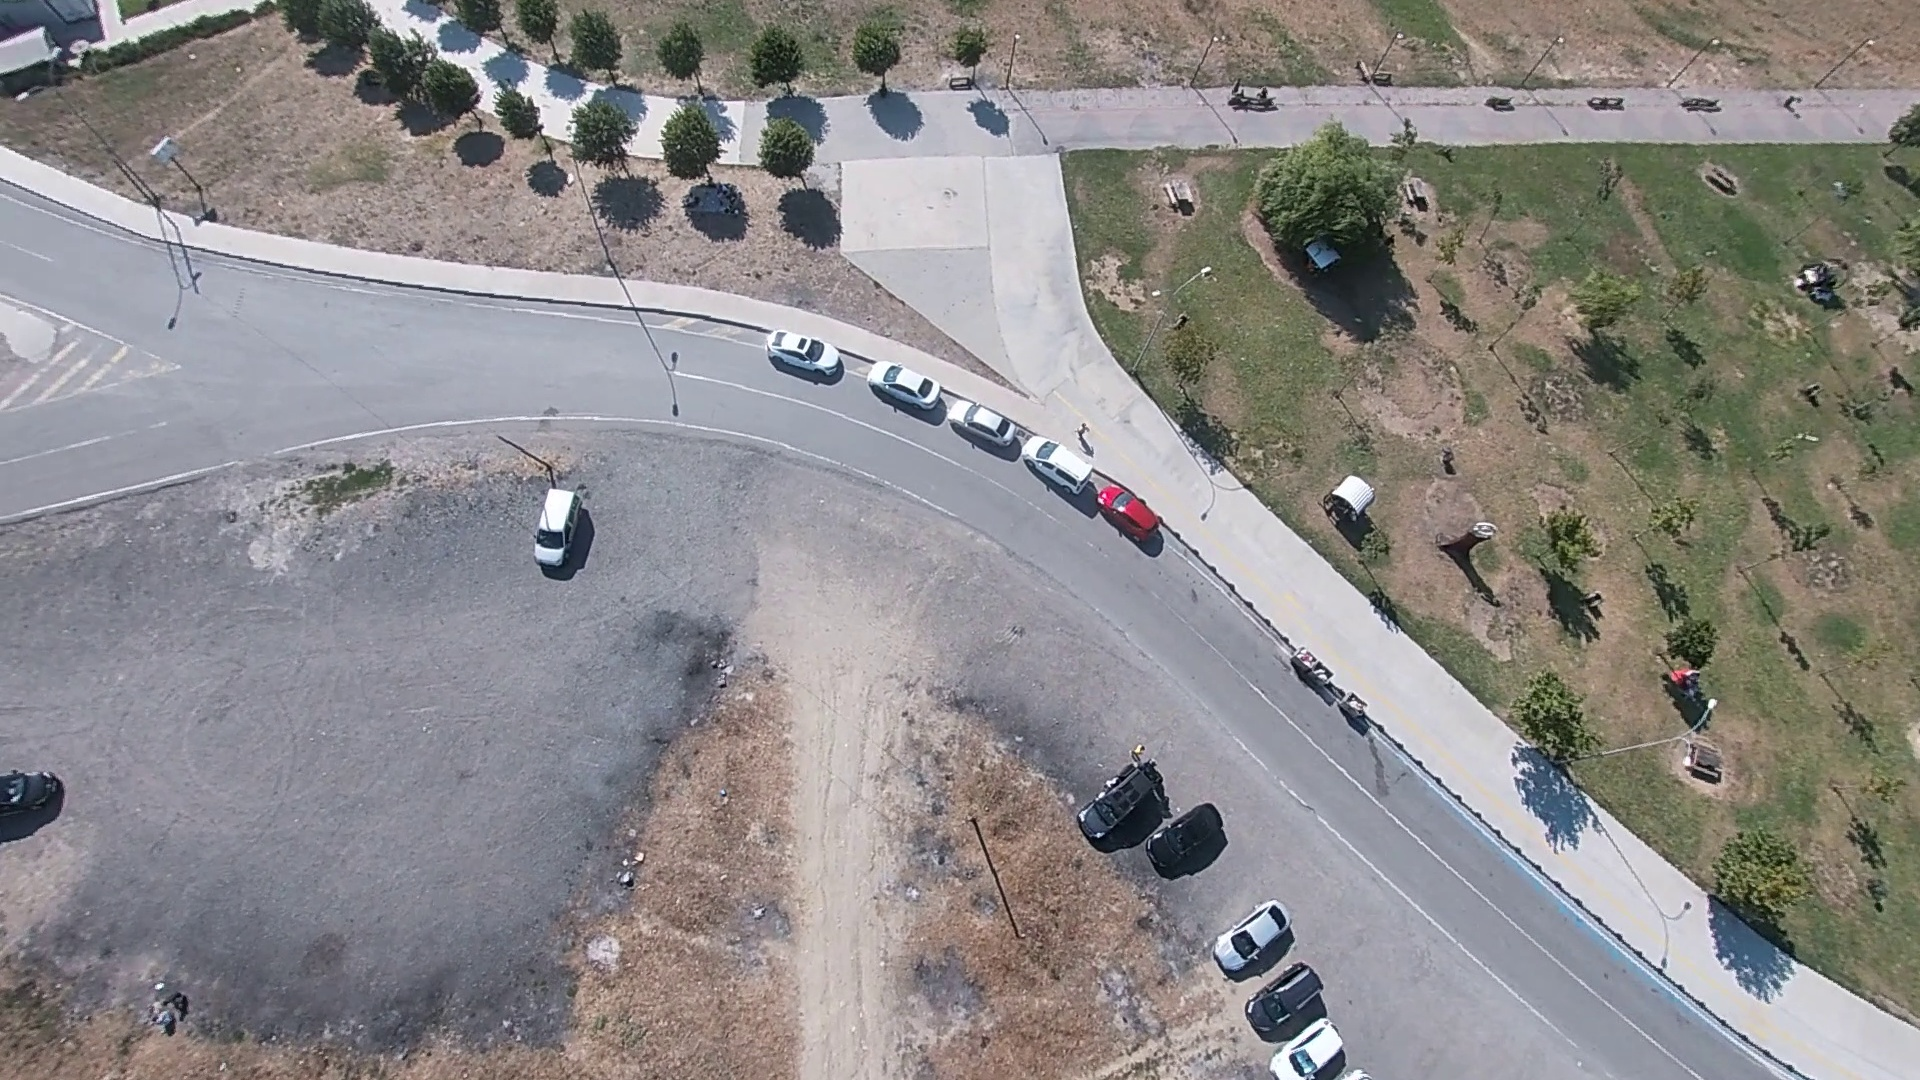arac: (1146, 789, 1232, 891), (1212, 901, 1295, 982), (1019, 427, 1102, 508), (529, 477, 591, 575), (1088, 756, 1153, 841), (760, 323, 843, 381), (866, 353, 942, 417), (948, 385, 1018, 451), (1100, 479, 1163, 550), (1282, 1021, 1354, 1080), (1, 764, 67, 823)
